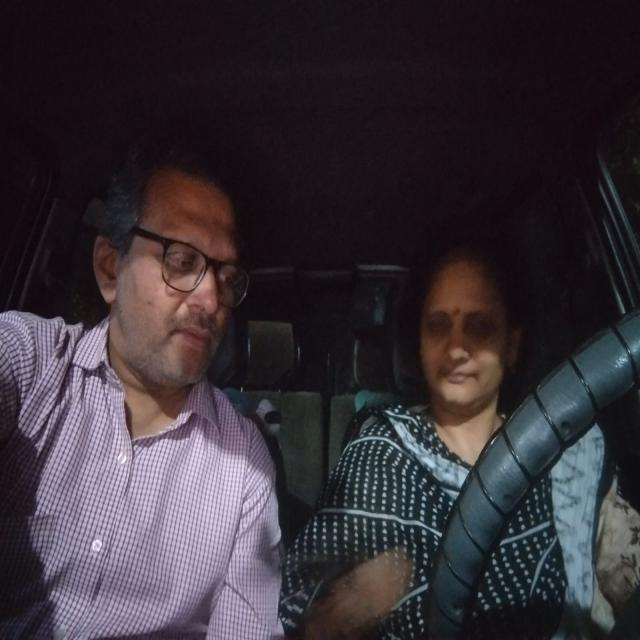person: (106, 159, 242, 389), (418, 246, 513, 408)
